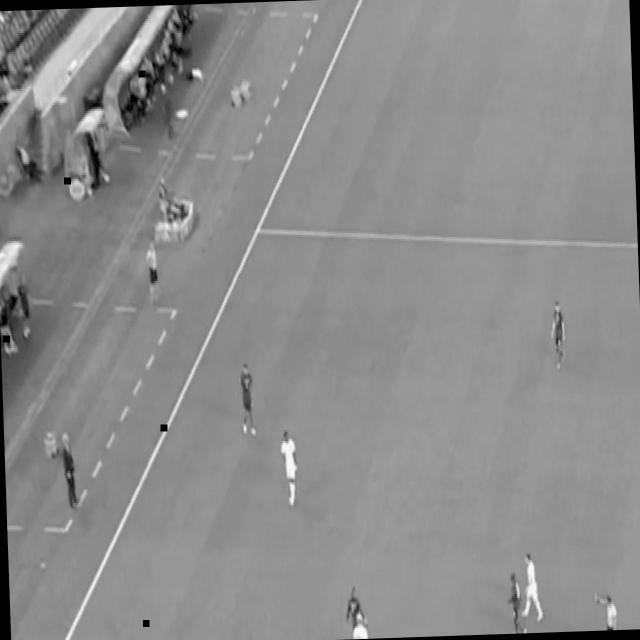player-white: (518, 549, 546, 628), (277, 426, 301, 512), (235, 361, 259, 439), (505, 568, 529, 634), (142, 233, 162, 311), (548, 296, 568, 374), (343, 580, 368, 640), (590, 583, 618, 631), (348, 608, 377, 640)
